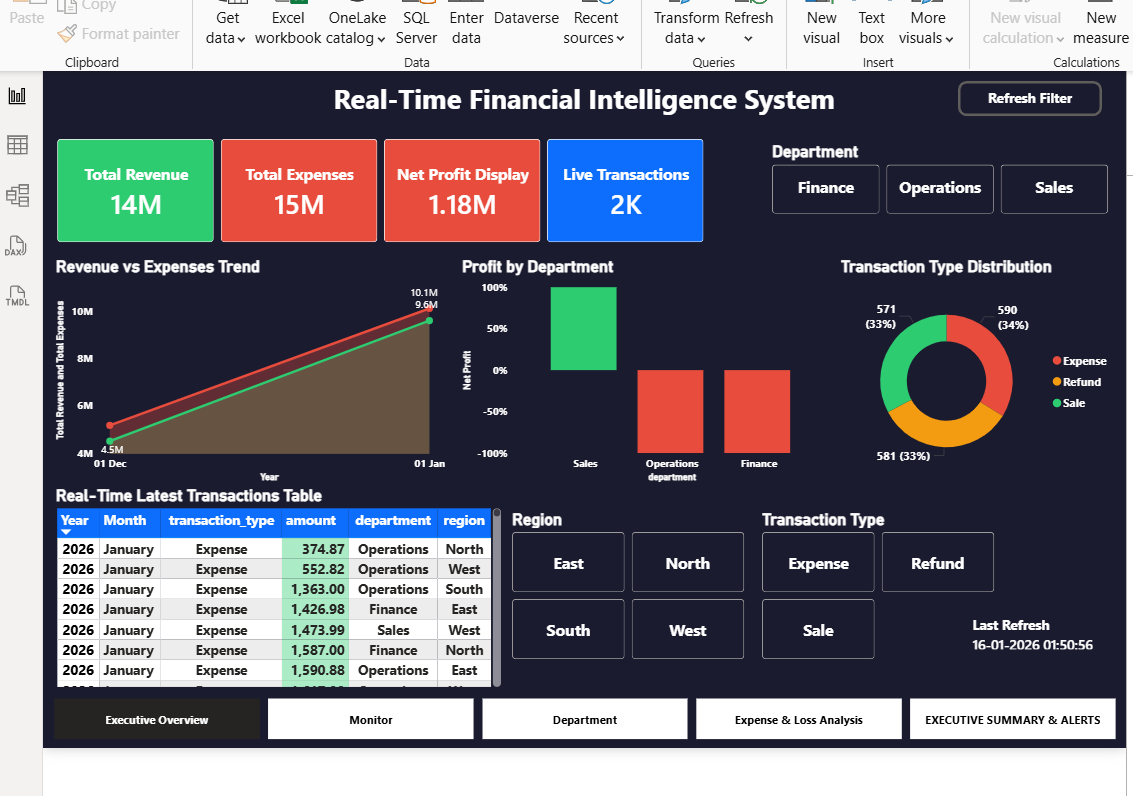

The page's visual inventory and layout, read from the dashboard file:
{"tool":"powerbi","page":{"name":"Executive Overview","canvas":[1280,800],"ordinal":0},"visuals":[{"type":"shape","box":[0,0,1280.3,63.1],"z":0},{"type":"cardVisual","fields":{"Data":["financial_transactions.Total Revenue","financial_transactions.Total Expenses","financial_transactions.Net Profit Display","financial_transactions.Live Transactions"]},"box":[0,63.1,798.6,156.4],"z":1000},{"type":"lineChart","title":"Revenue vs Expenses Trend","fields":{"Y":["financial_transactions.Total Revenue","financial_transactions.Total Expenses"],"Category":["financial_transactions.transaction_time.Variation.Date Hierarchy.Year","financial_transactions.transaction_time.Variation.Date Hierarchy.Month"]},"box":[10,220.4,470.8,271.5],"z":2000},{"type":"hundredPercentStackedColumnChart","title":"Profit by Department","fields":{"Category":["financial_transactions.department"],"Y":["financial_transactions.Net Profit"]},"box":[490.7,220.4,443.4,271.5],"z":3000},{"type":"donutChart","title":"Transaction Type Distribution","fields":{"Category":["financial_transactions.transaction_type"],"Y":["financial_transactions.Live Transactions"]},"box":[939,220.4,333.8,271.5],"z":4000},{"type":"tableEx","title":"Real-Time Latest Transactions Table","fields":{"Values":["financial_transactions.transaction_time.Variation.Date Hierarchy.Year","financial_transactions.transaction_time.Variation.Date Hierarchy.Month","financial_transactions.transaction_type","financial_transactions.amount","financial_transactions.department","financial_transactions.region"]},"box":[10.1,491.3,535.8,242.8],"z":5000},{"type":"advancedSlicerVisual","title":"Region","fields":{"Values":["financial_transactions.region"]},"box":[550.2,518.6,284.4,182.4],"z":6000},{"type":"advancedSlicerVisual","title":"Department","fields":{"Values":["financial_transactions.department"]},"box":[856.9,84.7,409.7,89.7],"z":7000},{"type":"advancedSlicerVisual","title":"Transaction Type","fields":{"Values":["financial_transactions.transaction_type"]},"box":[844.7,518.6,284.4,182.4],"z":8000},{"type":"pageNavigator","box":[13.3,755.3,1256.4,35.5],"z":9000},{"type":"actionButton","box":[1081.8,12.1,170.2,41.6],"z":10000},{"type":"cardVisual","fields":{"Data":["financial_transactions.Last Refresh"]},"box":[1070.3,630.7,209.7,70.4],"z":11000}]}

Visuals, with their boxes on the page's 1280x800 design canvas (x1, y1, x2, y2). These are canvas units, not pixel positions in the 1133x796 screenshot, which may show the page scaled, cropped or inside an application window:
shape: crop(0, 0, 1280, 63)
cardVisual - financial_transactions.Total Revenue x financial_transactions.Total Expenses: crop(0, 63, 799, 220)
"Revenue vs Expenses Trend" lineChart: crop(10, 220, 481, 492)
"Profit by Department" hundredPercentStackedColumnChart: crop(491, 220, 934, 492)
"Transaction Type Distribution" donutChart: crop(939, 220, 1273, 492)
"Real-Time Latest Transactions Table" tableEx: crop(10, 491, 546, 734)
"Region" advancedSlicerVisual: crop(550, 519, 835, 701)
"Department" advancedSlicerVisual: crop(857, 85, 1267, 174)
"Transaction Type" advancedSlicerVisual: crop(845, 519, 1129, 701)
pageNavigator: crop(13, 755, 1270, 791)
actionButton: crop(1082, 12, 1252, 54)
cardVisual - financial_transactions.Last Refresh: crop(1070, 631, 1280, 701)
